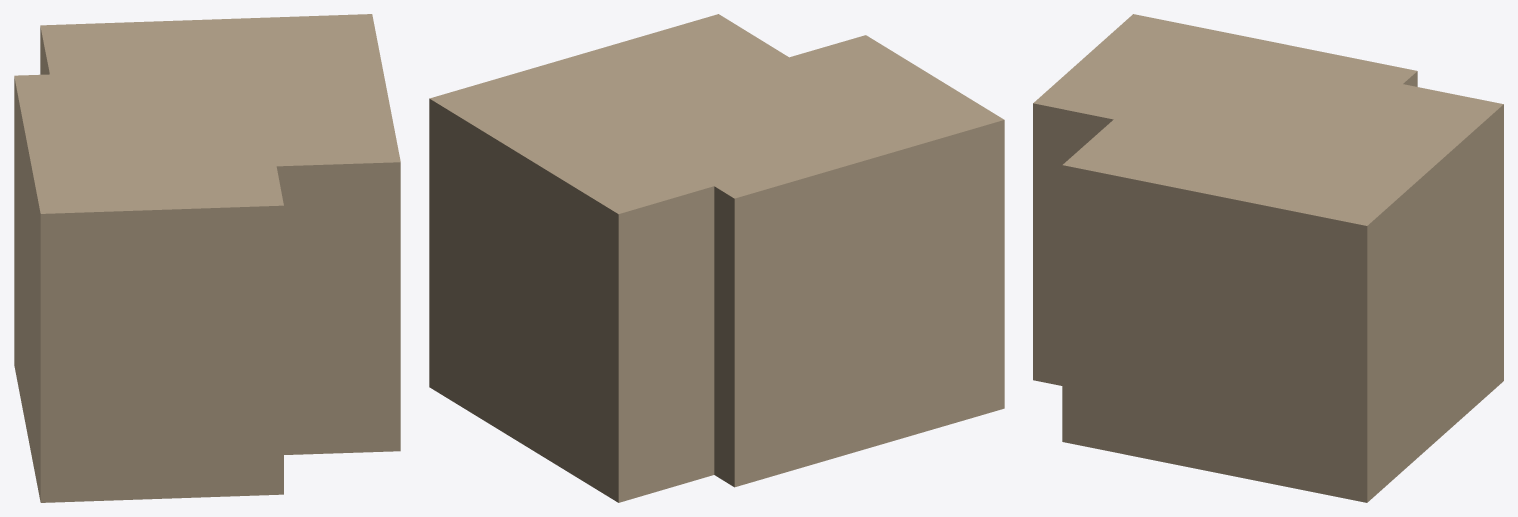
File: bld_101289735.dae
3 views of the same model, side by side, from view 1: azimuth 30°, elevation 25°; view 2: azimuth 150°, elevation 25°; view 3: azimuth 270°, elevation 25° (orthographic). The views are drawn at different scales.
Visible parts, largest first — view 1: bld_101289735; view 2: bld_101289735; view 3: bld_101289735.
Part boxes in pixels (x1=…): bld_101289735: x1=14, y1=14, x2=400, y2=502; bld_101289735: x1=429, y1=14, x2=1004, y2=502; bld_101289735: x1=1033, y1=14, x2=1503, y2=502.
Size of the model in its own units: 13.14 by 12.32 by 8.
